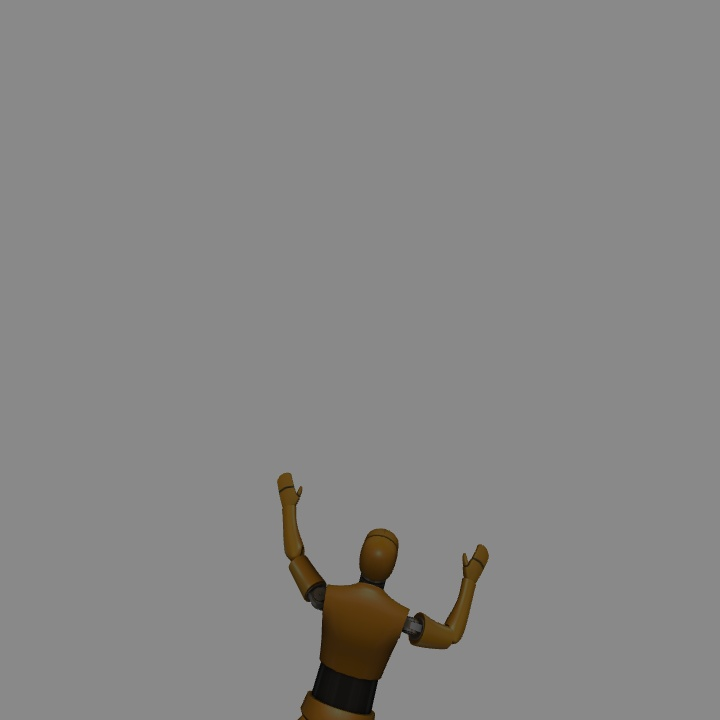victim: (270, 470, 487, 720)
